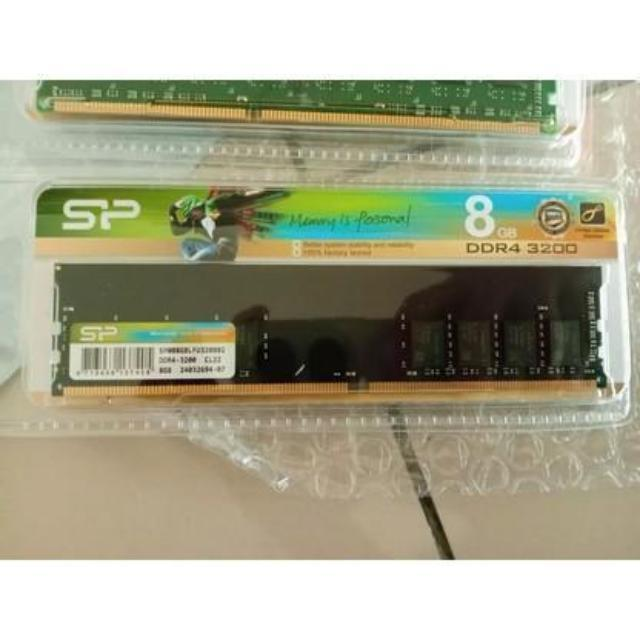RAM: (49, 254, 614, 412)
